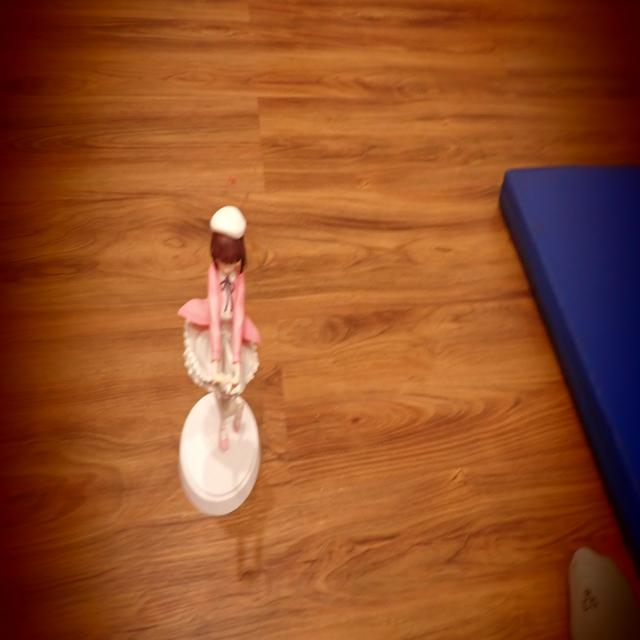My-pink-anime-figure: (179, 206, 260, 451)
